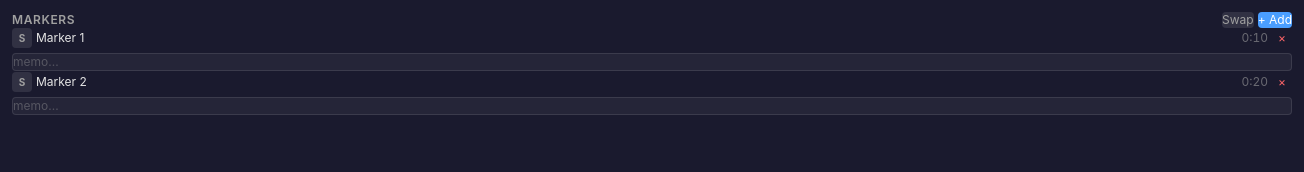
it: MarkersPanel - US-2.2: マーカーの編集と削除 › Scenario: マーカーのラベルをスワップする › 2つのマーカーを選択するとSwapボタンが有効化される
This screenshot has width=1304, height=172.
Click the button with test id "swap-select-1". click: (22, 38)
box: [12,28,32,48]
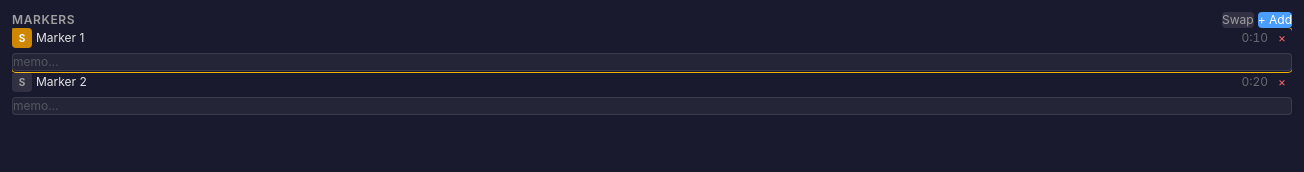
Click the button with test id "swap-select-2". click: (22, 82)
box: [12,72,32,92]
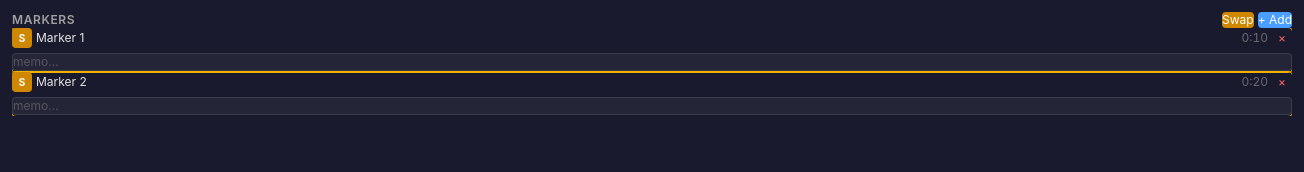
Expected: the button with test id "swap-button" is enabled, [1222,12,1254,28]
